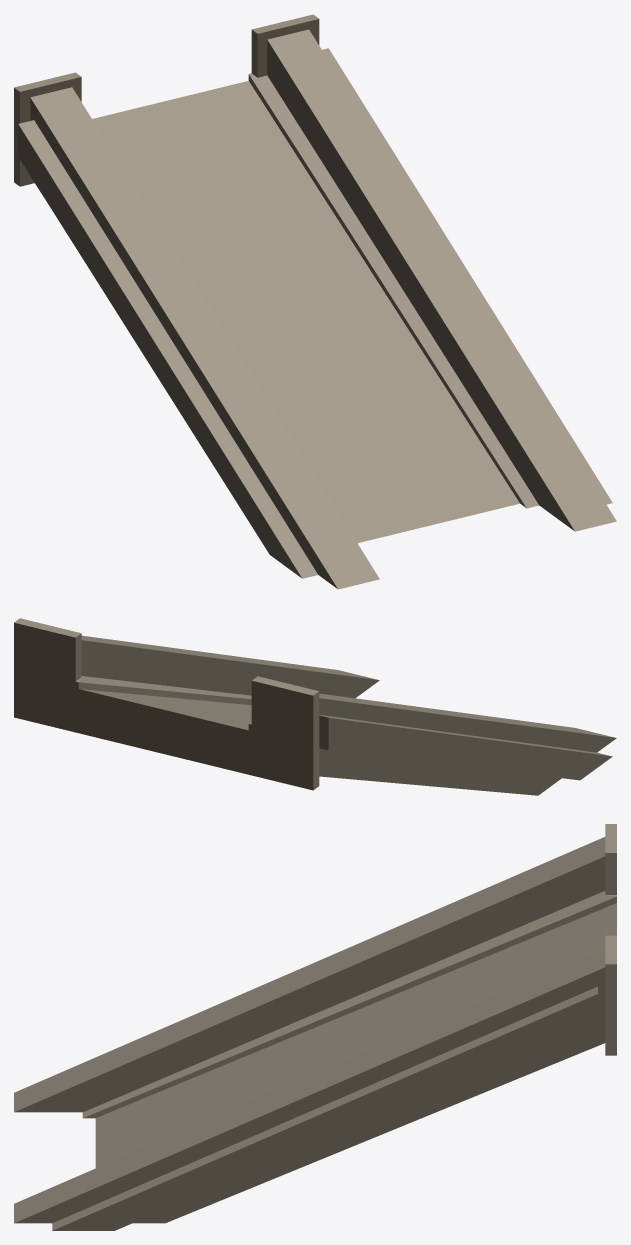
The model's file is SF_Prop_Bridge_Stone_Ramp_01.fbx.
3 renders of one model, top to bottom at view 1: azimuth 30°, elevation 25°; view 2: azimuth 150°, elevation 25°; view 3: azimuth 270°, elevation 25°, orthographic. The views are drawn at different scales.
Parts seen in each view (by area): view 1: SF_Prop_Bridge_Stone_Ramp_01; view 2: SF_Prop_Bridge_Stone_Ramp_01; view 3: SF_Prop_Bridge_Stone_Ramp_01.
Part boxes in pixels (left/top/right/bottom): SF_Prop_Bridge_Stone_Ramp_01: left=14, top=14, right=616, bottom=589; SF_Prop_Bridge_Stone_Ramp_01: left=14, top=618, right=616, bottom=795; SF_Prop_Bridge_Stone_Ramp_01: left=14, top=824, right=616, bottom=1230.
Bounding box in the file's own units: 9.91 × 8.38 × 17.35.
